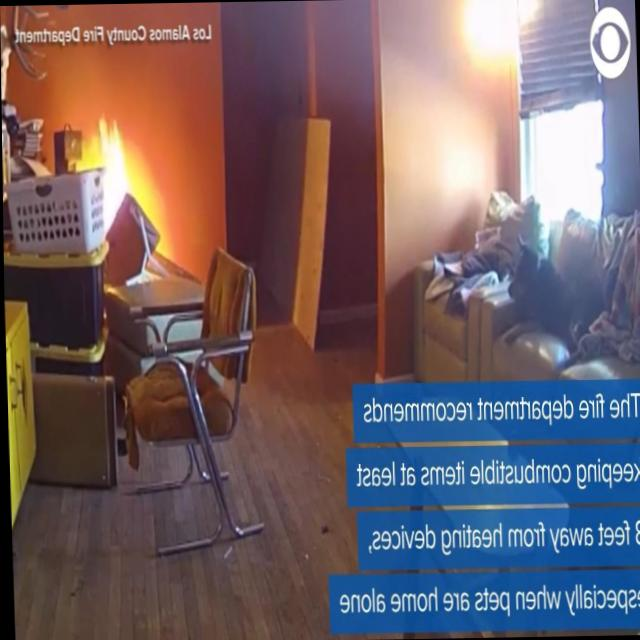fire: (73, 110, 126, 240)
